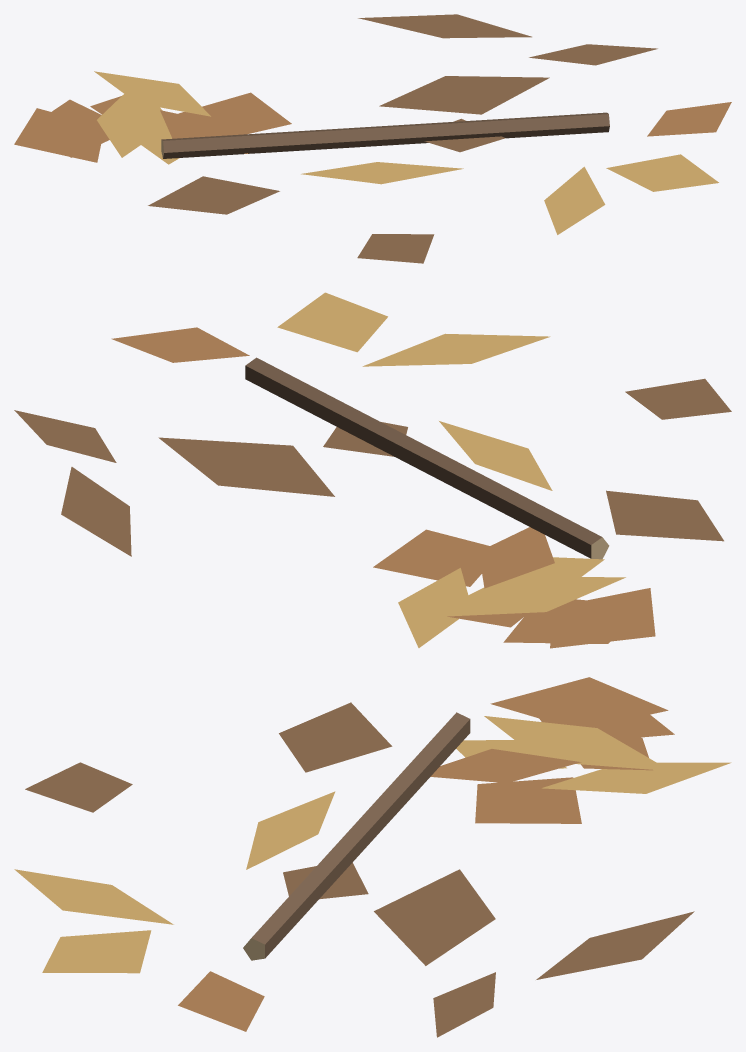
The model's file is debris_leaf_clump_a.glb.
3 renders of one model, top to bottom at view 1: azimuth 30°, elevation 25°; view 2: azimuth 150°, elevation 25°; view 3: azimuth 270°, elevation 25°, orthographic. The views are drawn at different scales.
Visible parts, largest first — view 1: debris_leaf_clump_a; view 2: debris_leaf_clump_a; view 3: debris_leaf_clump_a.
Part boxes in pixels (x1,y1,x2,y2): debris_leaf_clump_a: (14, 14, 731, 263); debris_leaf_clump_a: (14, 292, 731, 648); debris_leaf_clump_a: (14, 677, 731, 1037).
Size of the model in its own units: 0.5778 by 0.0206 by 0.4898.
